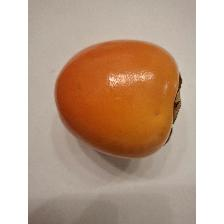Kaki: (52, 36, 186, 164)
